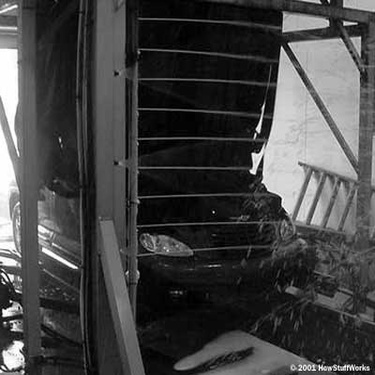car: (1, 155, 310, 318)
